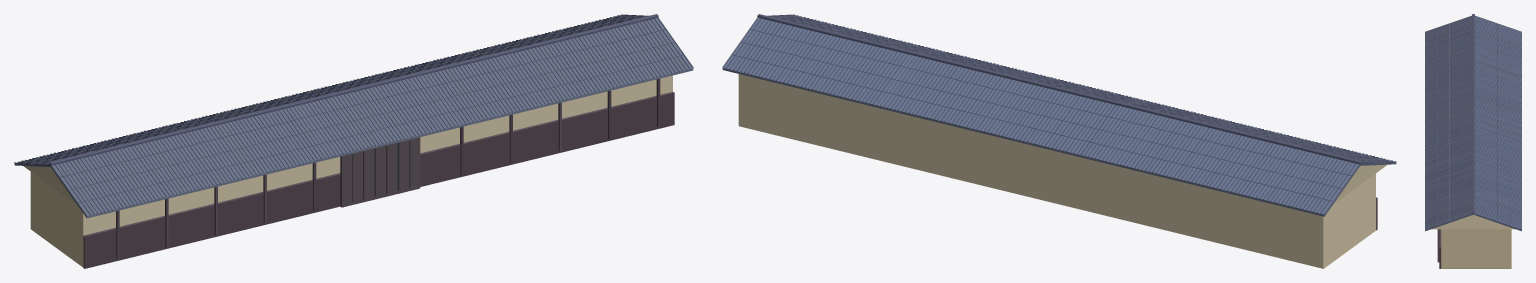
File: ART_NorthLonghouse.glb
3 renders of one model, left to right at view 1: azimuth 30°, elevation 25°; view 2: azimuth 150°, elevation 25°; view 3: azimuth 270°, elevation 25°, orthographic. The views are drawn at different scales.
Visible parts, largest first — view 1: ART_NorthLonghouse; view 2: ART_NorthLonghouse; view 3: ART_NorthLonghouse.
Part boxes in pixels (<box>): ART_NorthLonghouse: <box>14,14,693,268</box>; ART_NorthLonghouse: <box>722,14,1396,268</box>; ART_NorthLonghouse: <box>1425,14,1521,268</box>.
Size of the model in its own units: 37.08 by 5.24 by 7.67.
